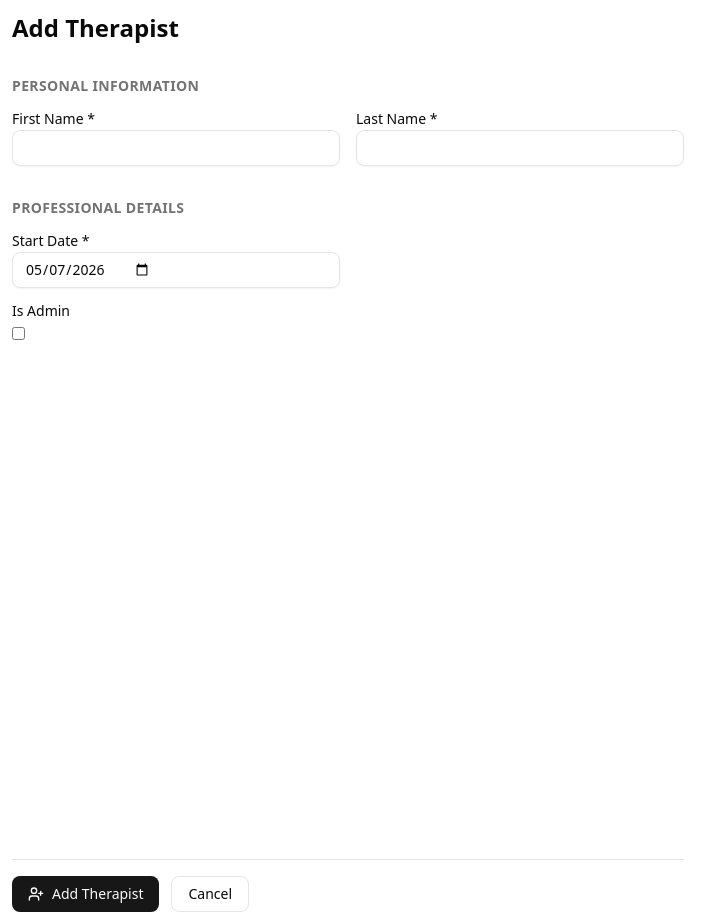
Test: TherapistFormPage — new therapist › clears field error when user types in that field
Click the button "Add Therapist" at [86, 894], box x1=12 y1=876 x2=160 y2=911
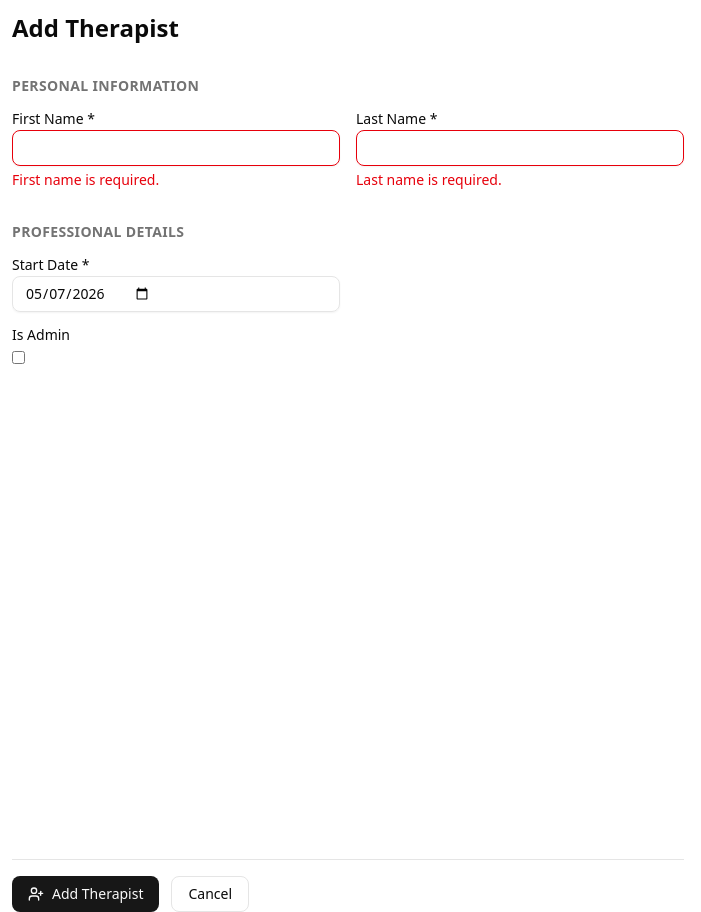
Check: the text "First name is required." is shown, box x1=12 y1=170 x2=159 y2=189
Type "A" into the field named "first name" at [176, 148], box x1=12 y1=130 x2=340 y2=166
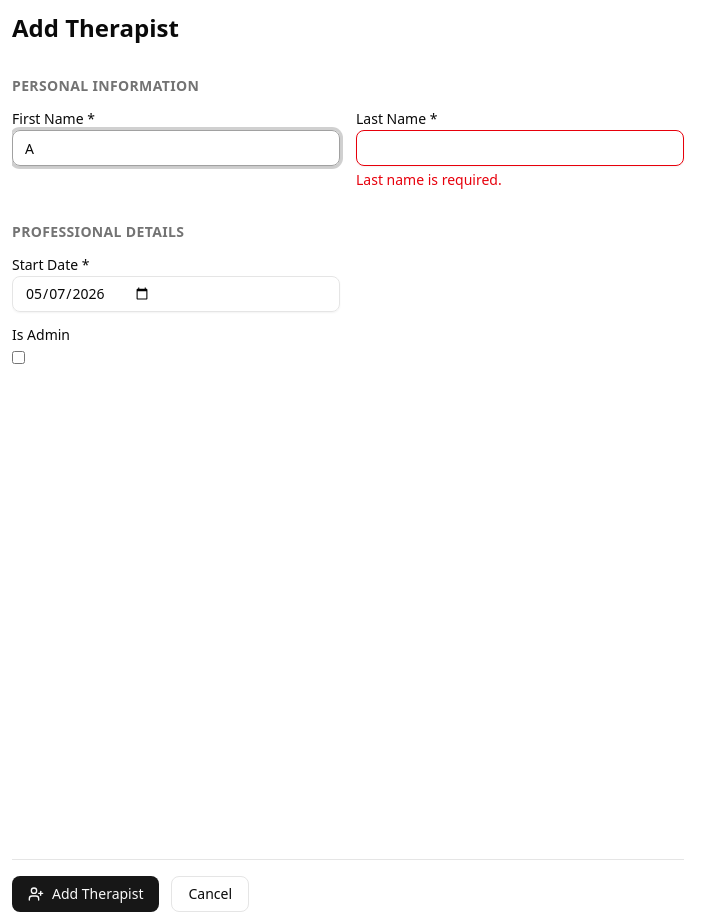
Check: the text "First name is required" is gone
